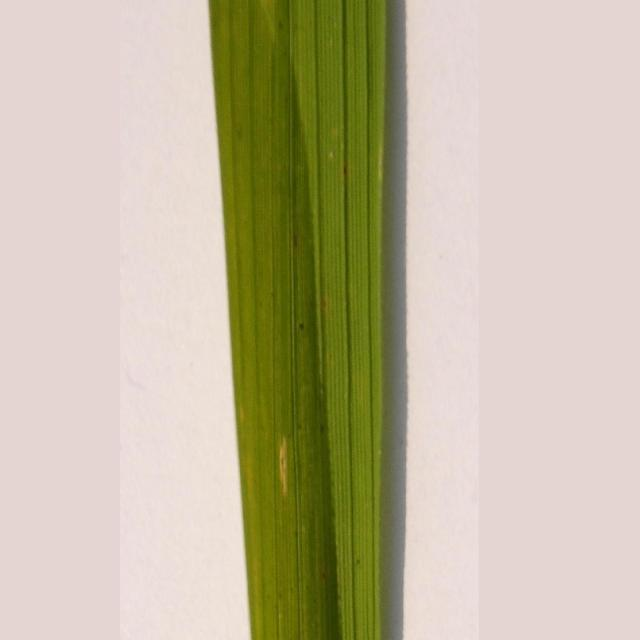leaf blight: (263, 429, 310, 504)
